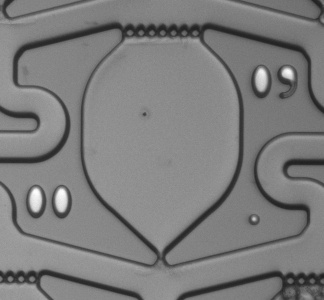AptNum: (246, 59, 306, 107)
Marker: (243, 209, 265, 230)
StNum: (18, 176, 82, 227)
Trap: (132, 257, 189, 300)
